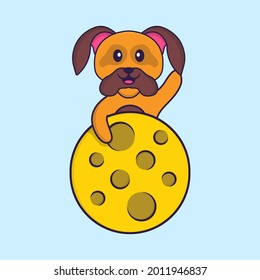dog: (69, 31, 196, 124)
